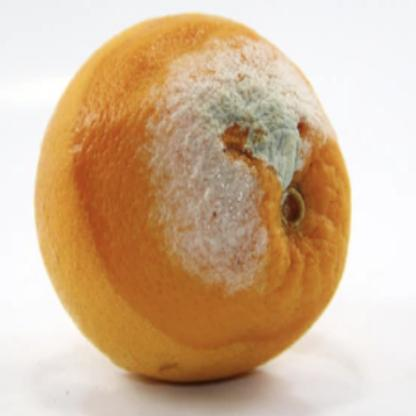rotten: (39, 14, 351, 384)
